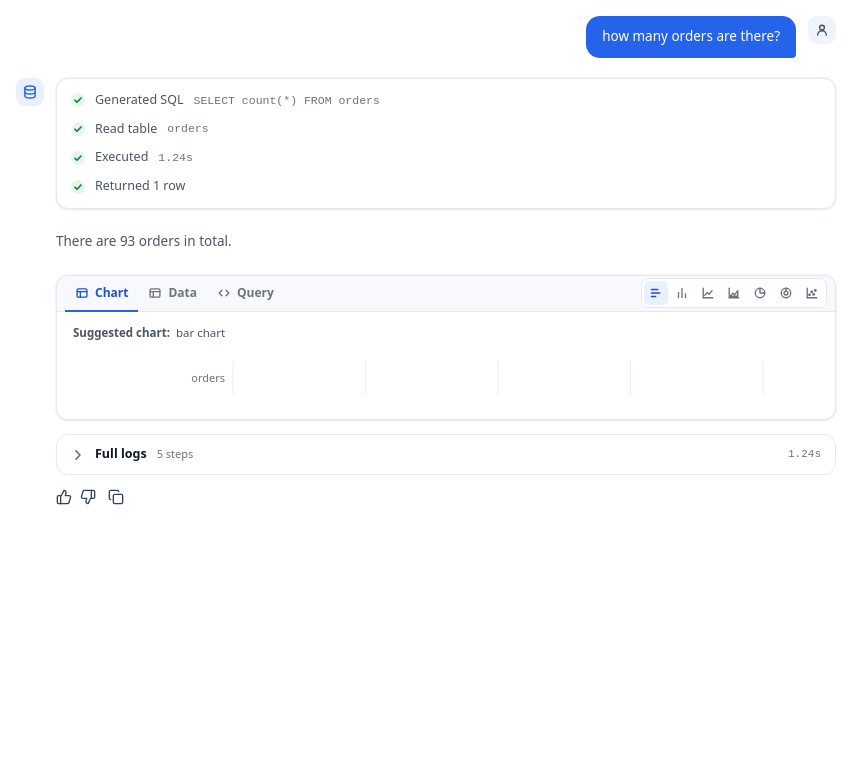
Test: Thread › logs what the run did in the background
Click the button "Full logs 5 steps 1.24s" at (121, 454), box left=57, top=435, right=835, bottom=474
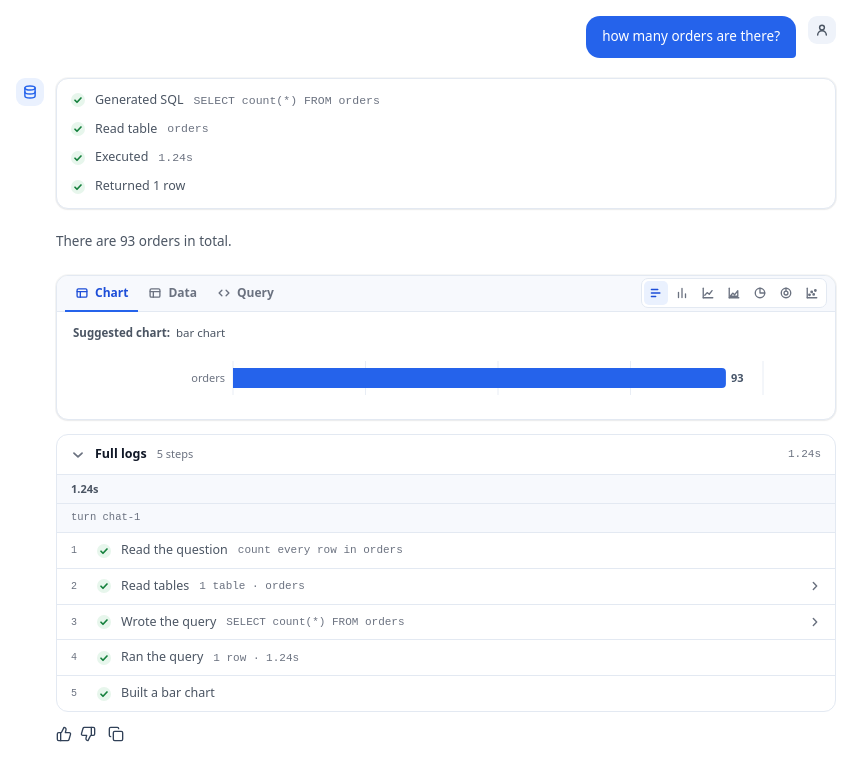
Check: the text "Read the question" is shown, box left=121, top=541, right=228, bottom=560
Check: the text "Wrote the query" is shown, box left=121, top=613, right=216, bottom=631
Check: the text "Ran the query" is shown, box left=121, top=648, right=203, bottom=667
